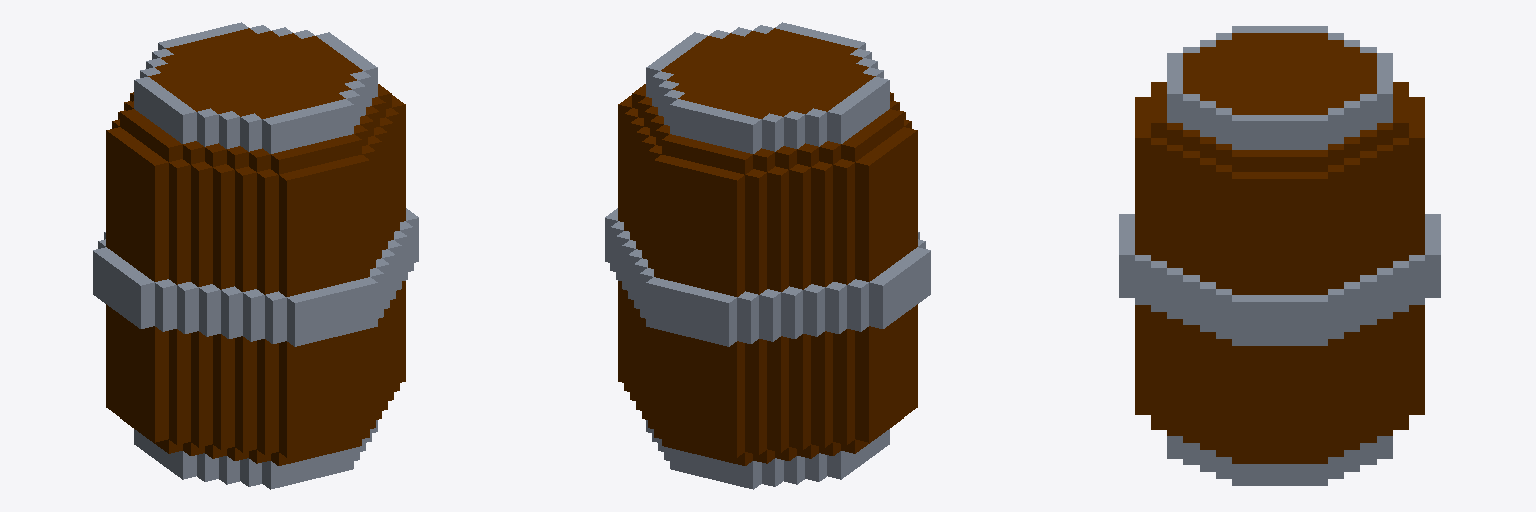
The picture shows the model from 3 angles: view 1: azimuth 30°, elevation 25°; view 2: azimuth 150°, elevation 25°; view 3: azimuth 270°, elevation 25°; orthographic projection.
Parts seen in each view (by area): view 1: object 1; view 2: object 1; view 3: object 1.
Boxes of the visible parts, x1,y1,x2,y2 form: object 1: [93, 22, 418, 489]; object 1: [605, 22, 930, 489]; object 1: [1119, 26, 1440, 485].
Bounding box in the file's own units: 2 × 2.5 × 2.
Materials: 1 (1 with a texture image).